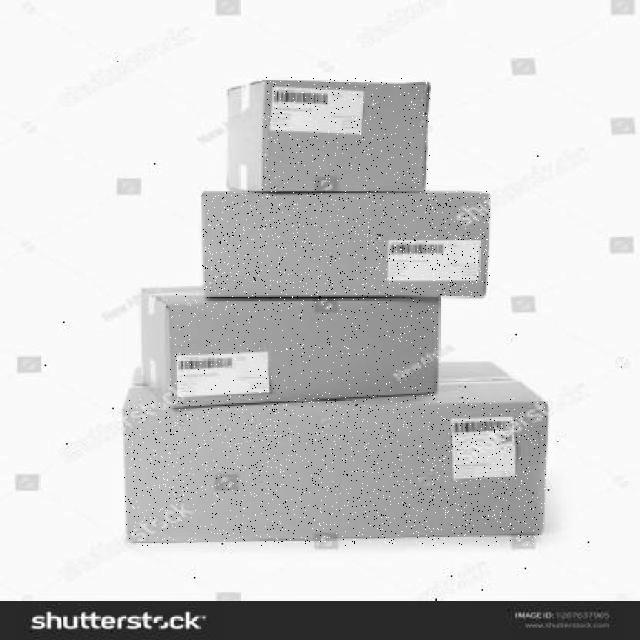BoxFace: (124, 398, 546, 546), (170, 294, 438, 412), (202, 192, 490, 298), (262, 78, 430, 194)
